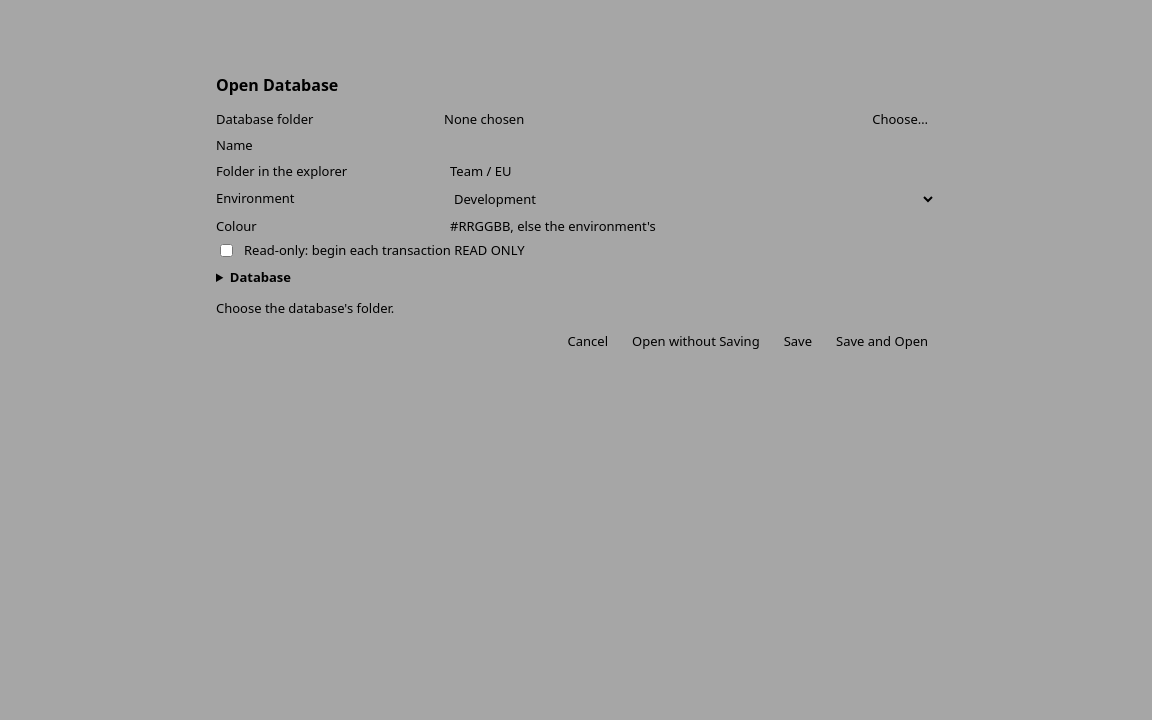
Test case: the embedded database dialog › opens a folder chosen that holds a database, saved nowhere [DESIGN] D59
Later steps or results of the test are not shown.
Expected: the button "Open without Saving" is disabled, [624,330,768,352]
Click the button with aria-label "Choose the database folder". click: {"x": 900, "y": 119}
box: [864,108,936,130]
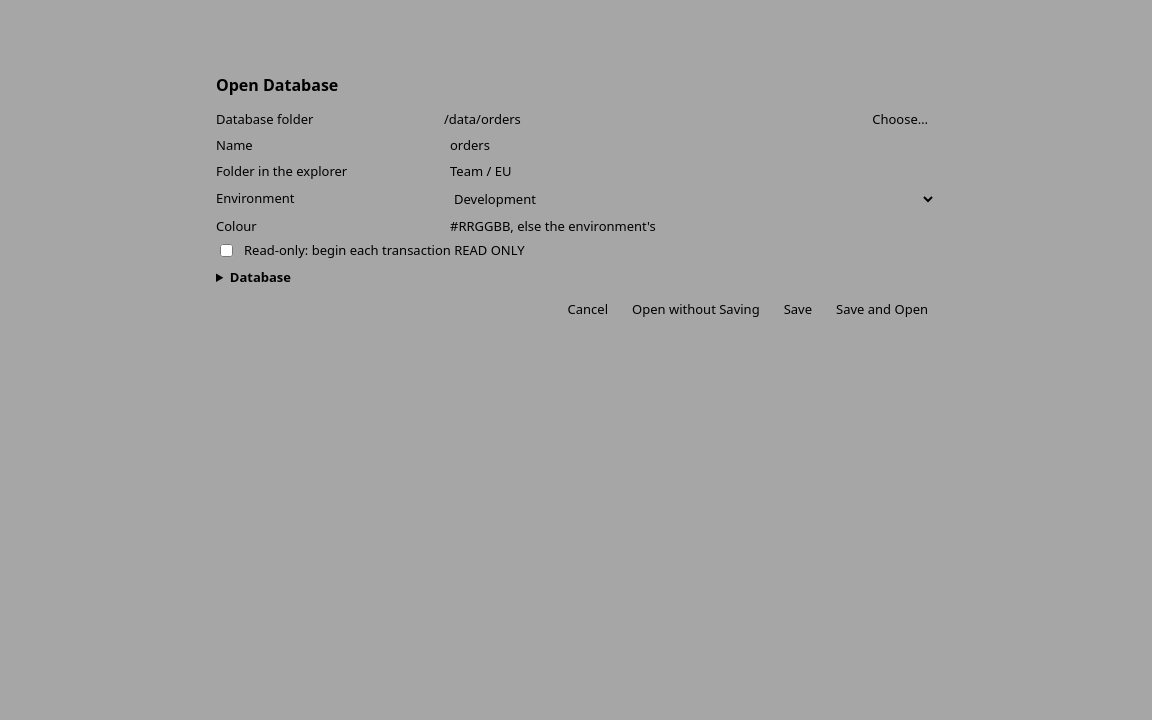
Now the field showing "orders" is shown, box [444,134,936,156]
